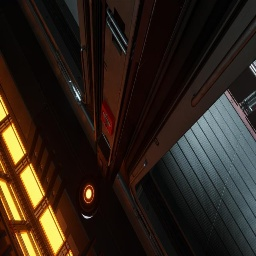FireAlarm ,: (101, 99, 115, 136)
